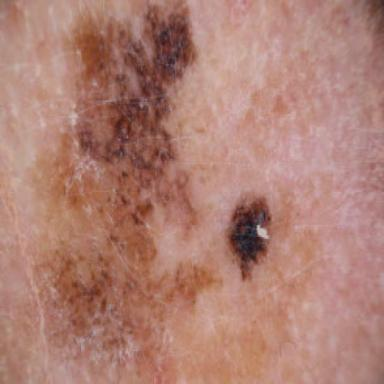Melanoma: (25, 3, 224, 384), (222, 192, 272, 289)
